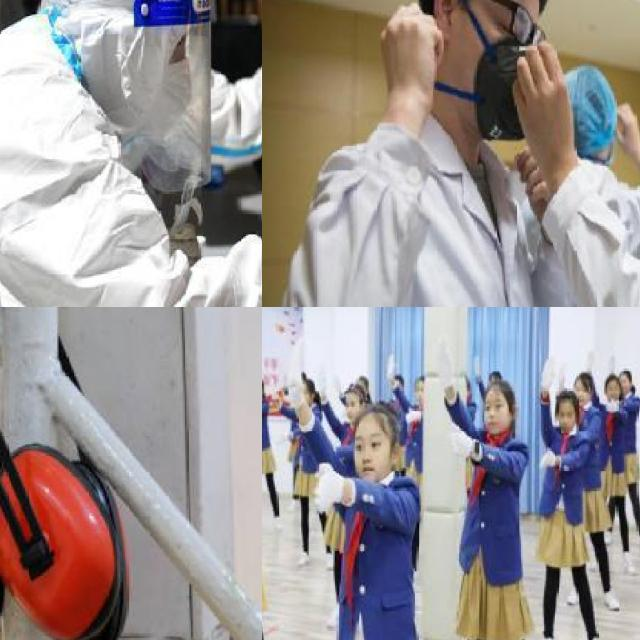Ear-protection: (1, 318, 166, 640)
face_mask: (457, 0, 543, 153)
face_nomask: (352, 430, 392, 479), (481, 392, 513, 433), (555, 405, 576, 427)
glasses: (477, 0, 560, 49)
hand_glove: (307, 456, 341, 518), (283, 348, 304, 404), (432, 338, 456, 384), (446, 419, 470, 456), (538, 353, 555, 392), (535, 445, 556, 473), (384, 348, 398, 387), (315, 364, 327, 399), (581, 342, 597, 368), (553, 358, 566, 385), (469, 352, 481, 379), (330, 369, 343, 393), (404, 402, 417, 426), (604, 396, 617, 413), (606, 347, 615, 370)
hand_noglove: (510, 38, 573, 157), (379, 1, 444, 95), (514, 146, 548, 209), (613, 98, 637, 158)
head_nohelmet: (343, 402, 395, 428), (552, 385, 578, 409), (570, 370, 596, 390), (339, 384, 366, 401), (492, 379, 512, 399), (600, 372, 620, 388), (618, 370, 632, 384)
person: (285, 0, 597, 307), (0, 0, 262, 307), (279, 341, 428, 640), (430, 336, 551, 640), (519, 348, 605, 640), (606, 375, 632, 573)
shoes: (596, 587, 626, 615), (618, 554, 640, 583), (534, 625, 567, 640), (293, 546, 312, 569)
